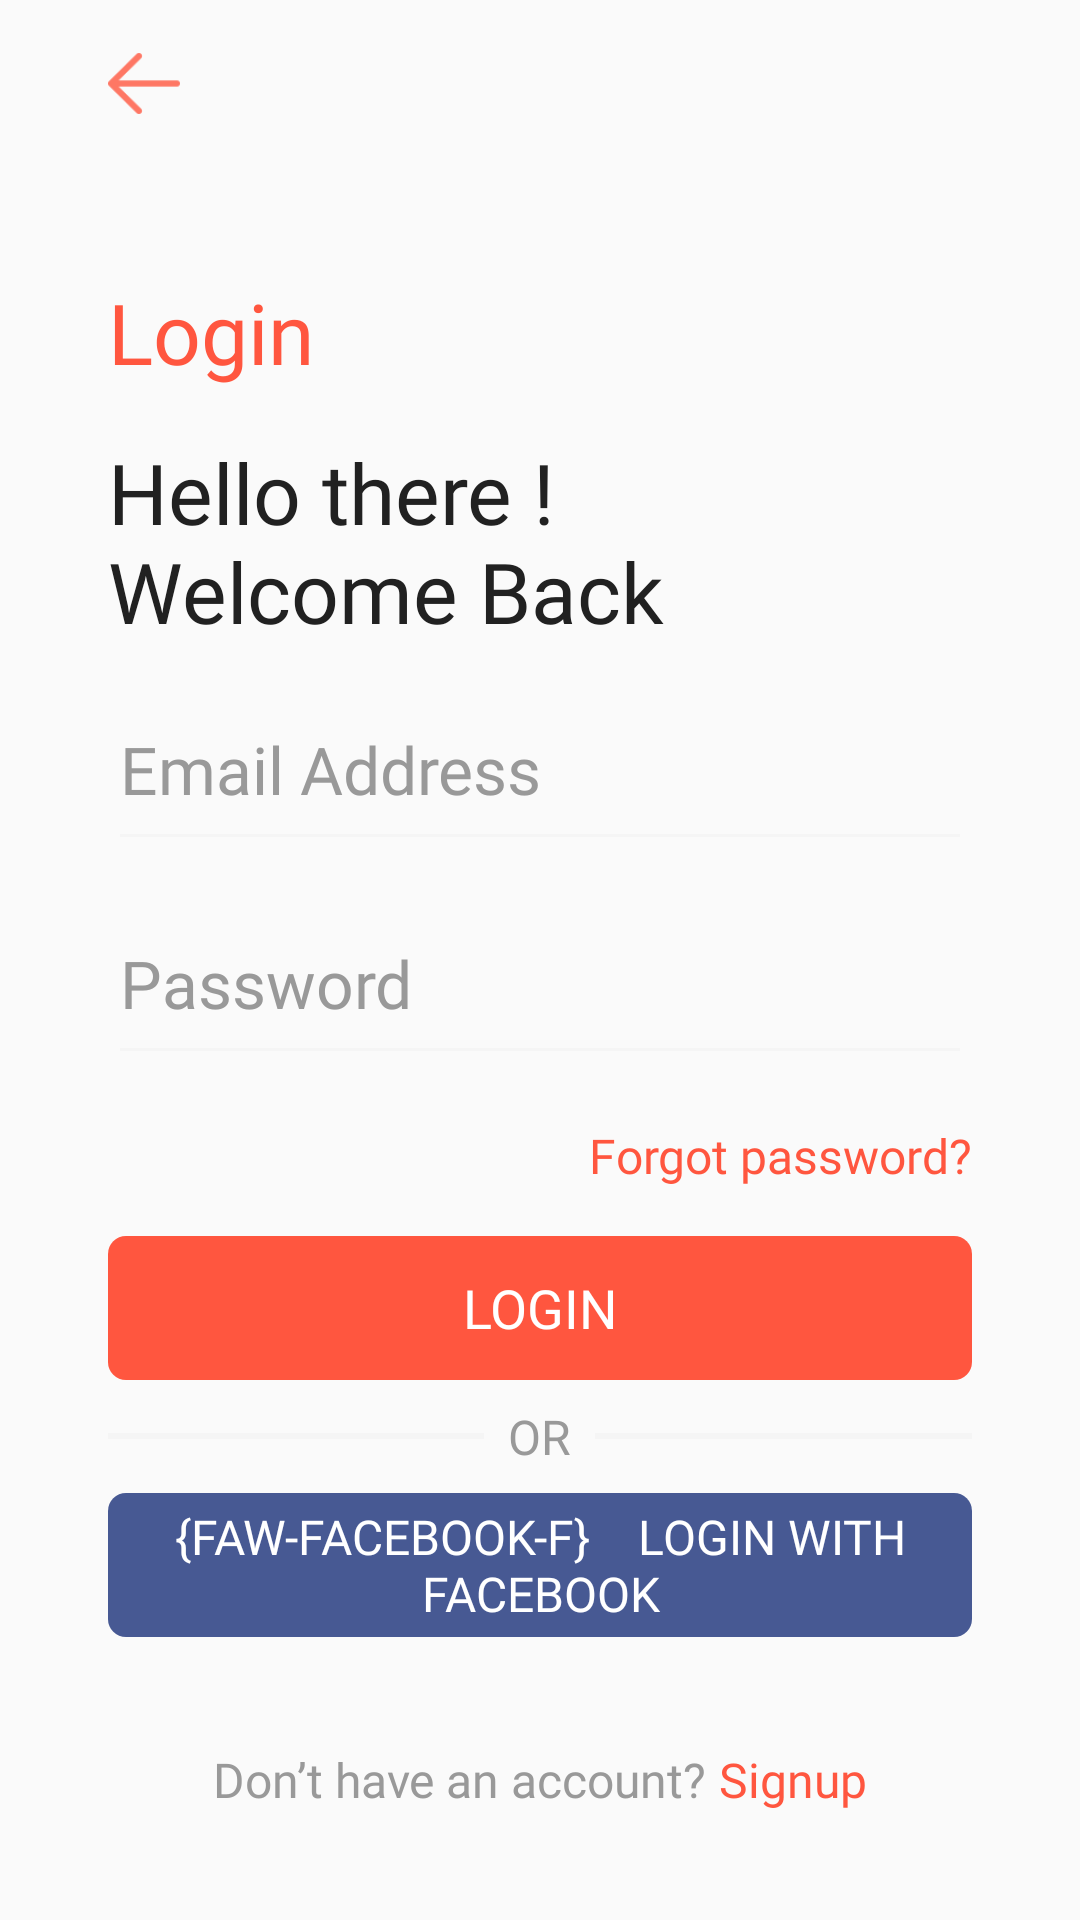

Locate icon controls on the screen. Image size 1080px×1920px, boxes as (x1, y1, x2, y2).
back: (108, 53, 180, 114)
